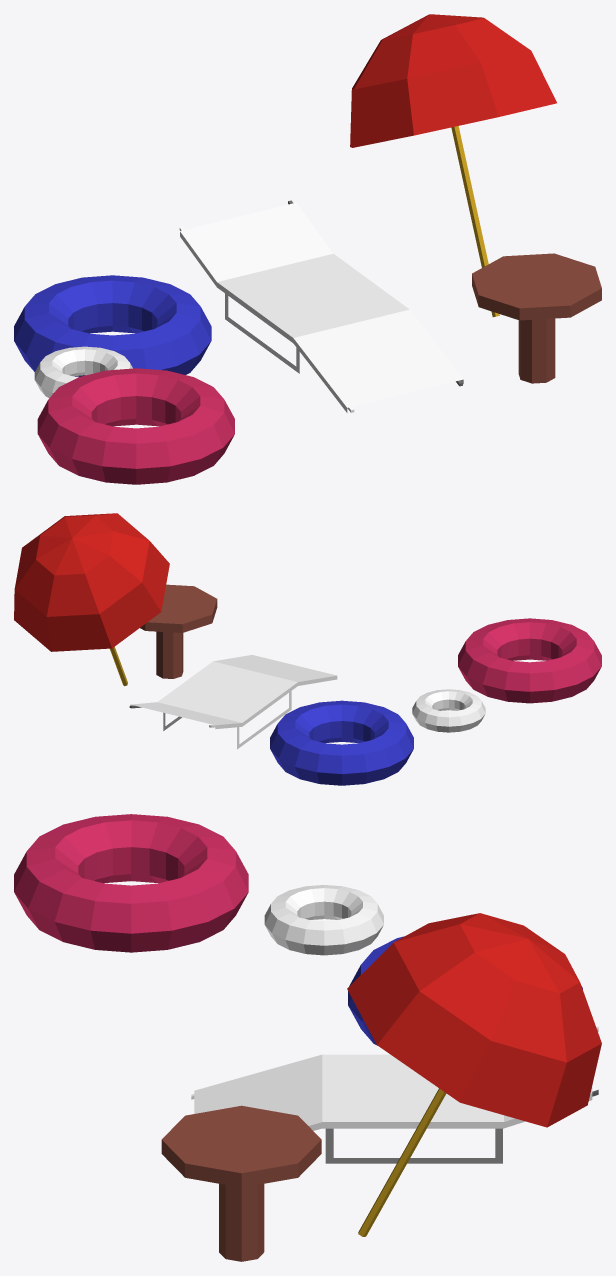
Rendered from objetos_praia.fbx.
The picture shows the model from 3 angles, top to bottom: view 1: azimuth 30°, elevation 25°; view 2: azimuth 150°, elevation 25°; view 3: azimuth 270°, elevation 25°; orthographic projection. The views are drawn at different scales.
Parts seen in each view (by area): view 1: Plane, Sphere, Torus, Torus.002, Cylinder, Torus.001; view 2: Sphere, Torus, Torus.002, Plane, Cylinder, Torus.001; view 3: Sphere, Torus, Plane, Cylinder, Torus.001, Torus.002.
Part boxes in pixels (x1,y1,x2,y2): Plane: (179, 200, 463, 412); Sphere: (350, 14, 556, 317); Torus: (37, 368, 234, 484); Torus.002: (14, 275, 211, 376); Cylinder: (472, 253, 601, 383); Torus.001: (34, 346, 132, 398); Sphere: (14, 513, 169, 686); Torus: (458, 618, 601, 703); Torus.002: (270, 700, 413, 785); Plane: (129, 655, 337, 749); Cylinder: (140, 584, 217, 678); Torus.001: (412, 689, 485, 732); Sphere: (347, 913, 601, 1236); Torus: (14, 814, 248, 952); Plane: (191, 1027, 598, 1163); Cylinder: (161, 1105, 321, 1261); Torus.001: (264, 885, 383, 955); Torus.002: (348, 936, 582, 1045).
Size of the model in its own units: 1104 by 461 by 735.
